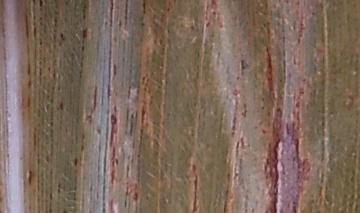tarspot: (72, 157, 79, 167), (57, 31, 65, 39), (37, 1, 44, 8)
